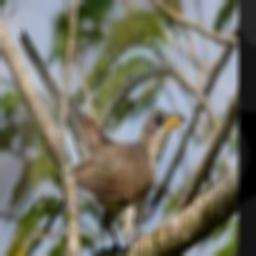Cuckoo: (19, 28, 187, 251)
